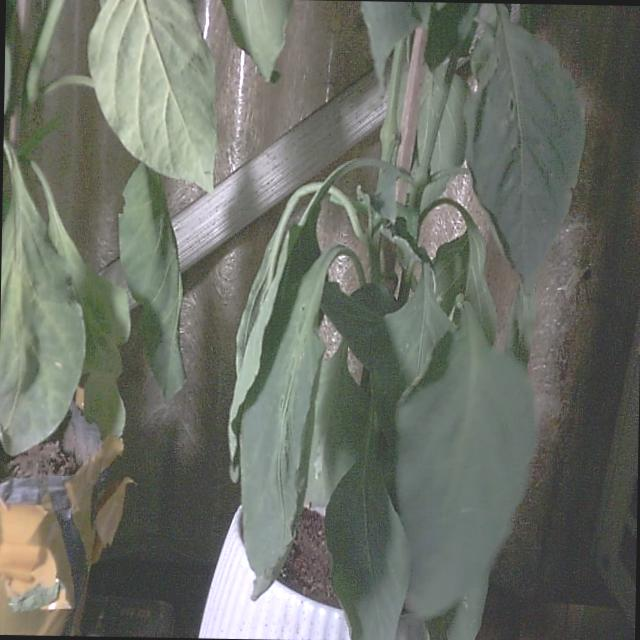Leaf: (396, 303, 536, 618), (466, 8, 584, 286), (0, 142, 84, 454), (88, 0, 215, 191), (118, 164, 184, 399), (325, 461, 408, 639), (222, 0, 291, 81)
